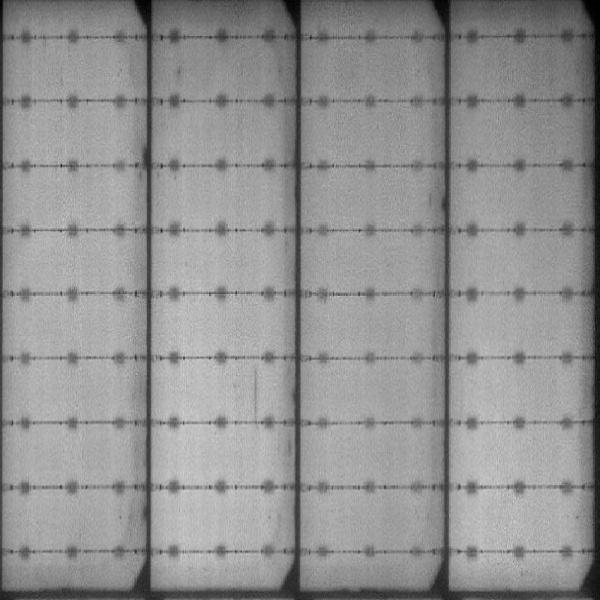scratch: (249, 366, 265, 429)
